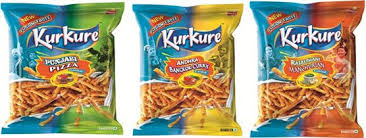kurkure: (23, 23, 100, 49), (153, 24, 223, 51), (271, 22, 342, 48)
plastic: (2, 1, 365, 138)
wrapper: (1, 2, 128, 136), (248, 2, 364, 138), (131, 3, 246, 135)
